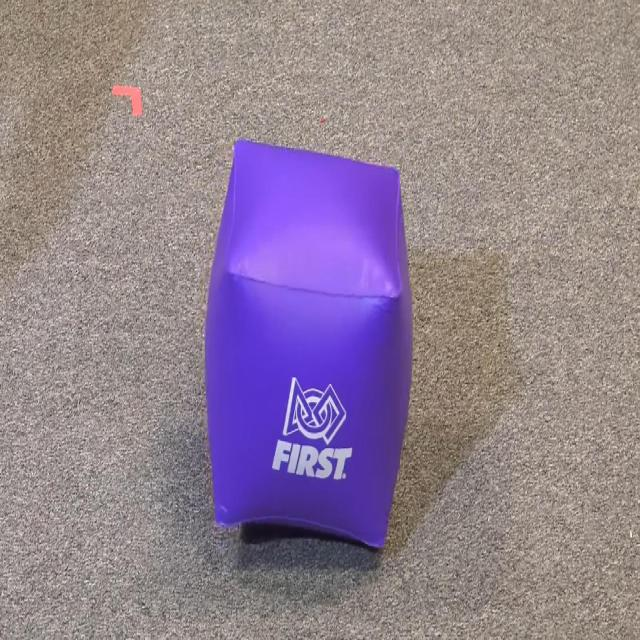frc_cube: (202, 141, 413, 554)
